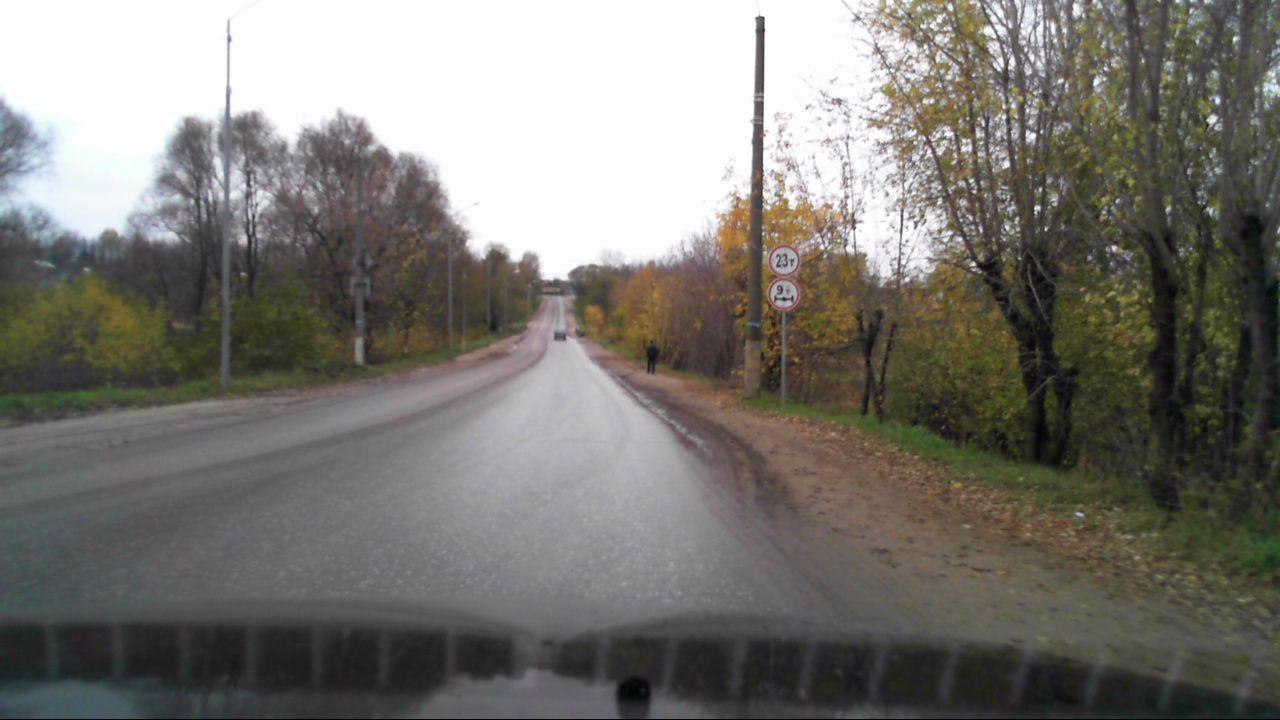3_11: (767, 244, 800, 278)
3_12: (768, 278, 800, 311)
